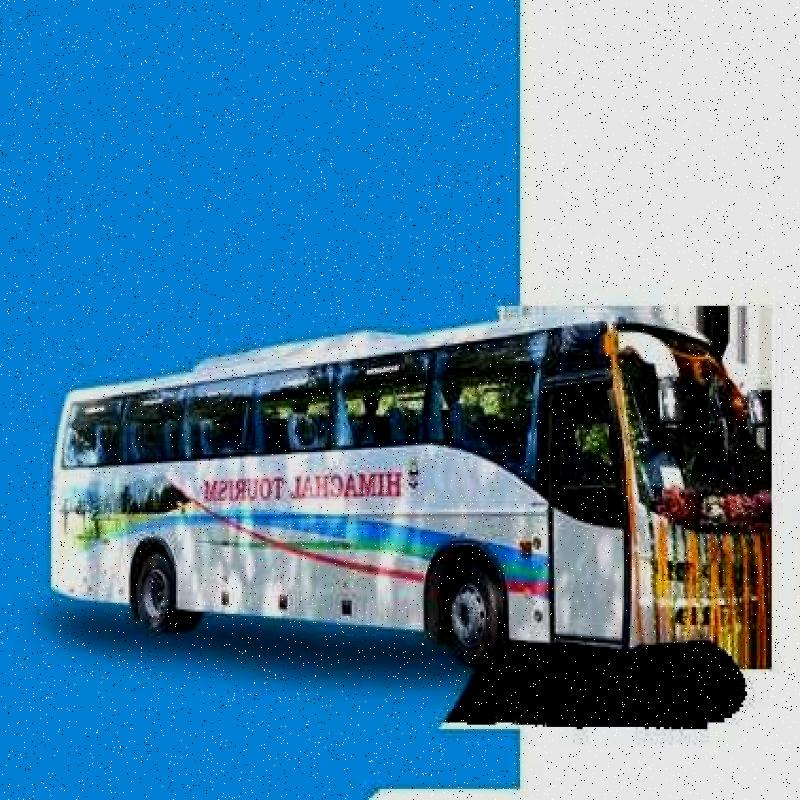bus: (0, 237, 779, 740)
